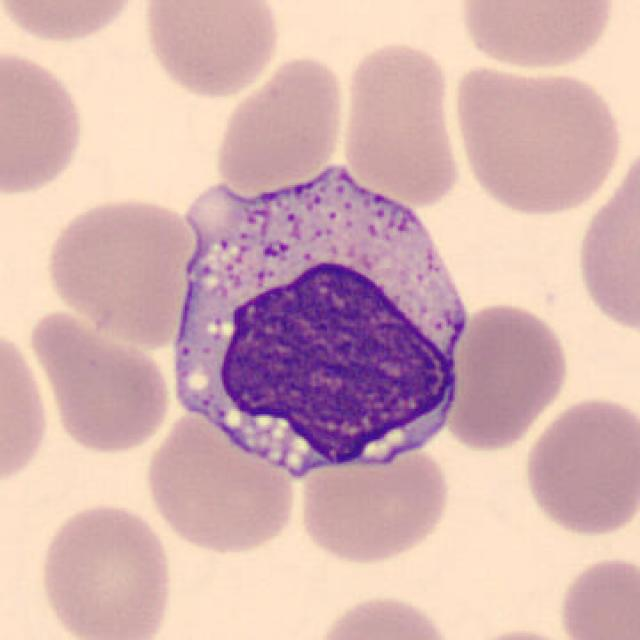Monocyte: (156, 155, 478, 497)
RBC: (448, 58, 628, 219), (41, 192, 199, 348), (140, 407, 300, 557), (27, 307, 174, 458), (338, 37, 464, 208), (34, 497, 178, 640), (295, 439, 453, 568), (442, 298, 572, 451), (212, 51, 350, 194), (519, 392, 638, 540), (138, 0, 284, 100), (0, 42, 91, 200), (570, 139, 640, 340), (454, 0, 620, 74), (0, 322, 53, 492), (309, 590, 458, 640), (555, 552, 638, 640), (0, 0, 146, 46), (450, 624, 590, 640)
